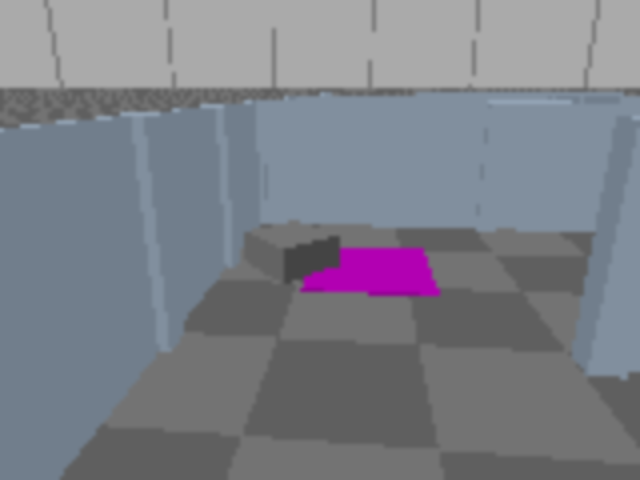goal_zone: (302, 246, 440, 297)
